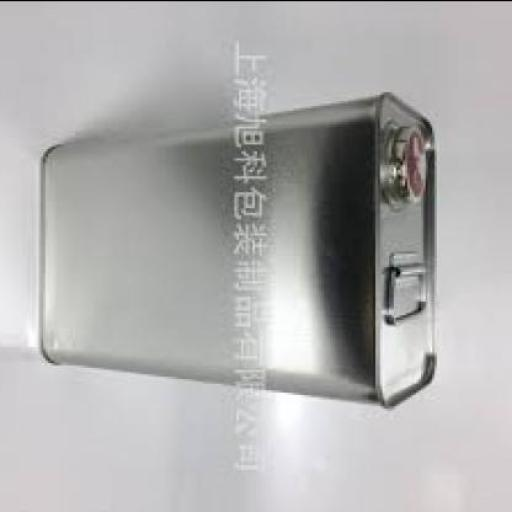metal: (46, 86, 440, 405)
